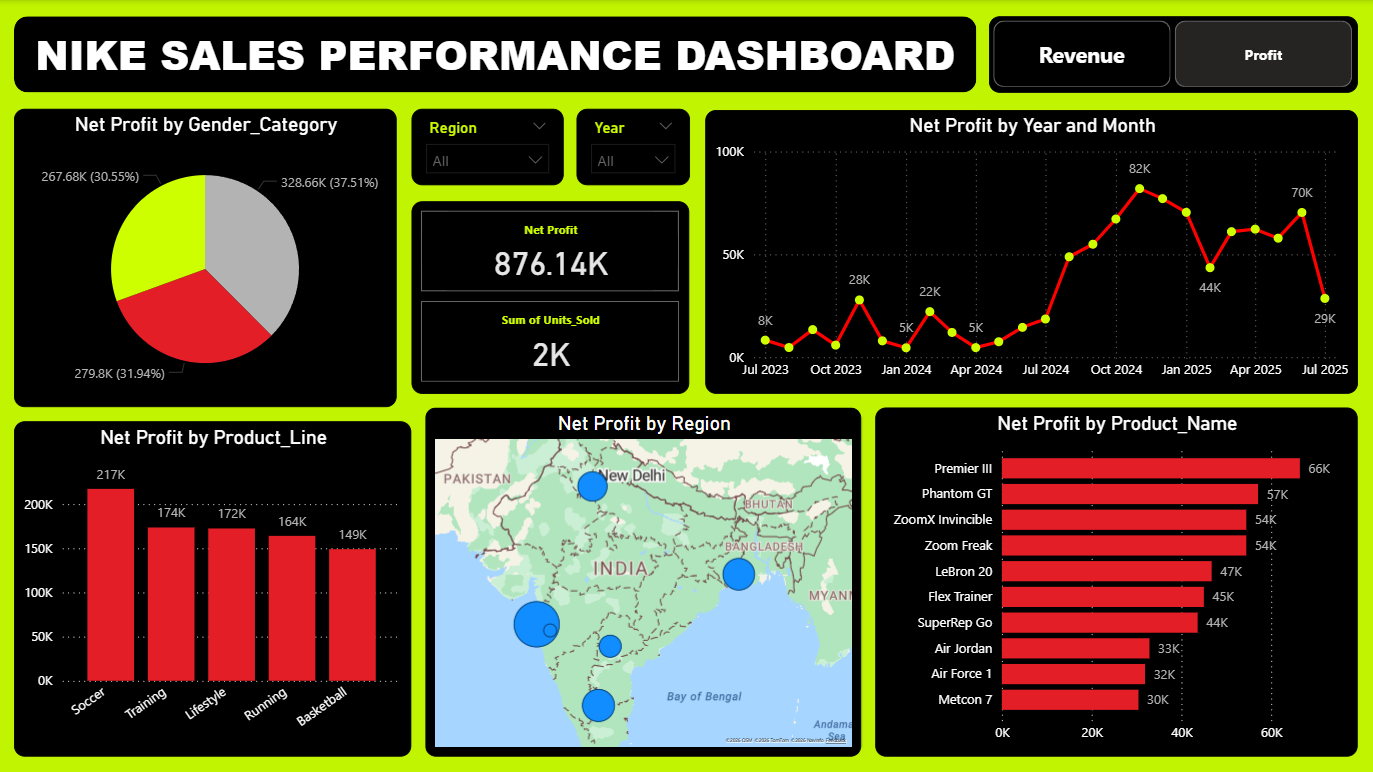

The dashboard page shown, as its layout file describes it:
{"tool":"powerbi","page":{"name":"Profit","canvas":[1280,720],"ordinal":1},"visuals":[{"type":"lineChart","fields":{"Y":["Table.Net Profit"],"Category":["Nike_Sales.Order_Date.Variation.Date Hierarchy.Year","Nike_Sales.Order_Date.Variation.Date Hierarchy.Month"]},"box":[656.8,102.1,607.6,264.2],"z":0},{"type":"columnChart","fields":{"Y":["Table.Net Profit"],"Category":["Nike_Sales.Product_Line"]},"box":[14,391.9,369.8,311.6],"z":1000},{"type":"azureMap","fields":{"Category":["Nike_Sales.Region"],"Size":["Table.Net Profit"]},"box":[396.5,379.1,405.8,324.4],"z":2000},{"type":"barChart","fields":{"Y":["Table.Net Profit"],"Category":["Nike_Sales.Product_Name"]},"box":[815.1,379.1,448.8,324.4],"z":3000},{"type":"pieChart","fields":{"Y":["Table.Net Profit"],"Category":["Nike_Sales.Gender_Category"]},"box":[14,101.2,355.8,277.9],"z":4000},{"type":"slicer","fields":{"Values":["Nike_Sales.Region"]},"box":[383.7,101.2,141.9,70.9],"z":5000},{"type":"shape","box":[14,15.1,895.4,70.9],"z":6000},{"type":"slicer","fields":{"Values":["Nike_Sales.Order_Date.Variation.Date Hierarchy.Year"]},"box":[536.7,100.9,105.7,70.8],"z":7000},{"type":"pageNavigator","box":[920.9,15.1,343,70.9],"z":8000},{"type":"cardVisual","fields":{"Data":["Table.Net Profit","Sum(Nike_Sales.Units_Sold)"]},"box":[384.2,187.3,258.2,178.9],"z":9000}]}

Visuals, with their boxes in screenshot pixels (x1, y1, x2, y2), scaled from the page's 1280x720 canvas onto the 1373x772 screenshot:
lineChart - Table.Net Profit x Nike_Sales.Order_Date.Variation.Date Hierarchy.Year: {"x1": 705, "y1": 109, "x2": 1356, "y2": 393}
columnChart - Table.Net Profit x Nike_Sales.Product_Line: {"x1": 15, "y1": 420, "x2": 412, "y2": 754}
azureMap - Nike_Sales.Region x Table.Net Profit: {"x1": 425, "y1": 406, "x2": 861, "y2": 754}
barChart - Table.Net Profit x Nike_Sales.Product_Name: {"x1": 874, "y1": 406, "x2": 1356, "y2": 754}
pieChart - Table.Net Profit x Nike_Sales.Gender_Category: {"x1": 15, "y1": 109, "x2": 397, "y2": 406}
slicer - Nike_Sales.Region: {"x1": 412, "y1": 109, "x2": 564, "y2": 185}
shape: {"x1": 15, "y1": 16, "x2": 975, "y2": 92}
slicer - Nike_Sales.Order_Date.Variation.Date Hierarchy.Year: {"x1": 576, "y1": 108, "x2": 689, "y2": 184}
pageNavigator: {"x1": 988, "y1": 16, "x2": 1356, "y2": 92}
cardVisual - Table.Net Profit x Sum(Nike_Sales.Units_Sold): {"x1": 412, "y1": 201, "x2": 689, "y2": 393}
